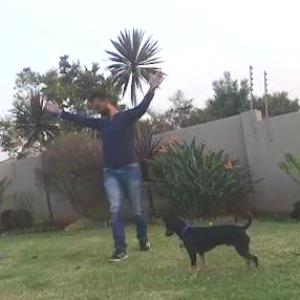takeoff: (27, 64, 163, 243)
